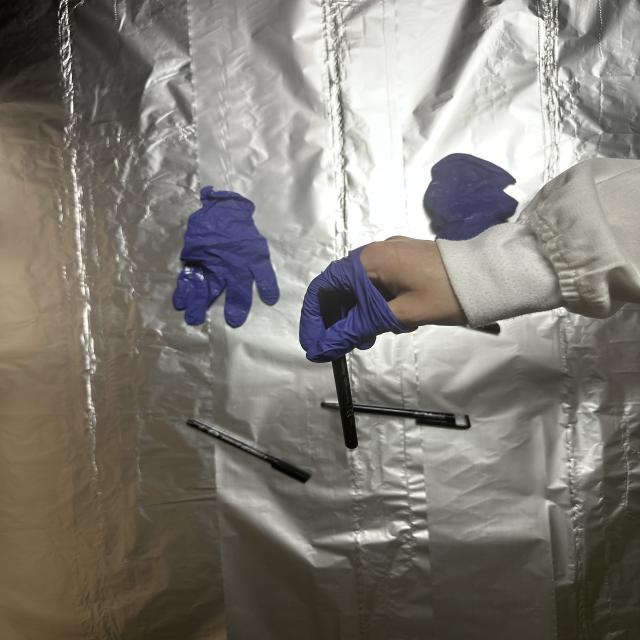glove_partial: (296, 235, 476, 363)
